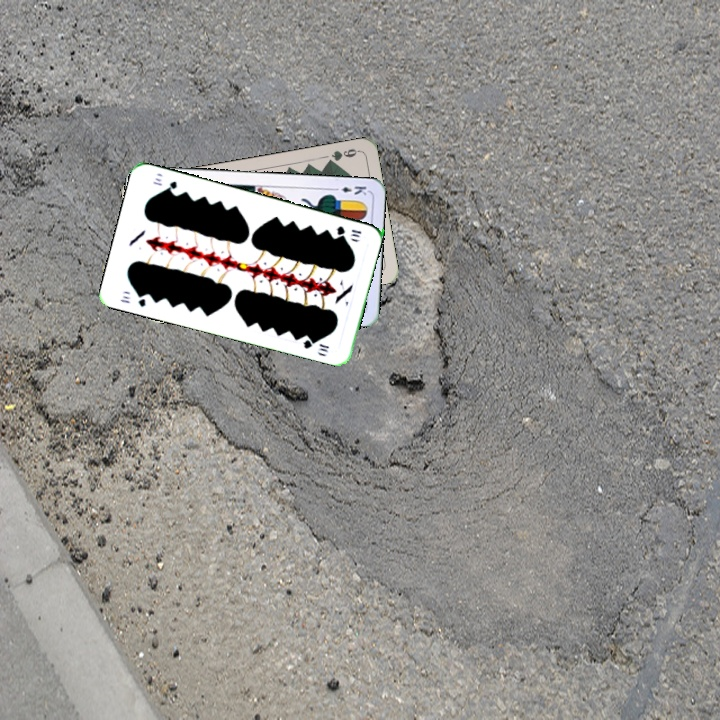EK: (329, 182, 369, 198)
G10: (332, 222, 364, 243), (116, 289, 148, 309)
G9: (322, 144, 361, 167)
